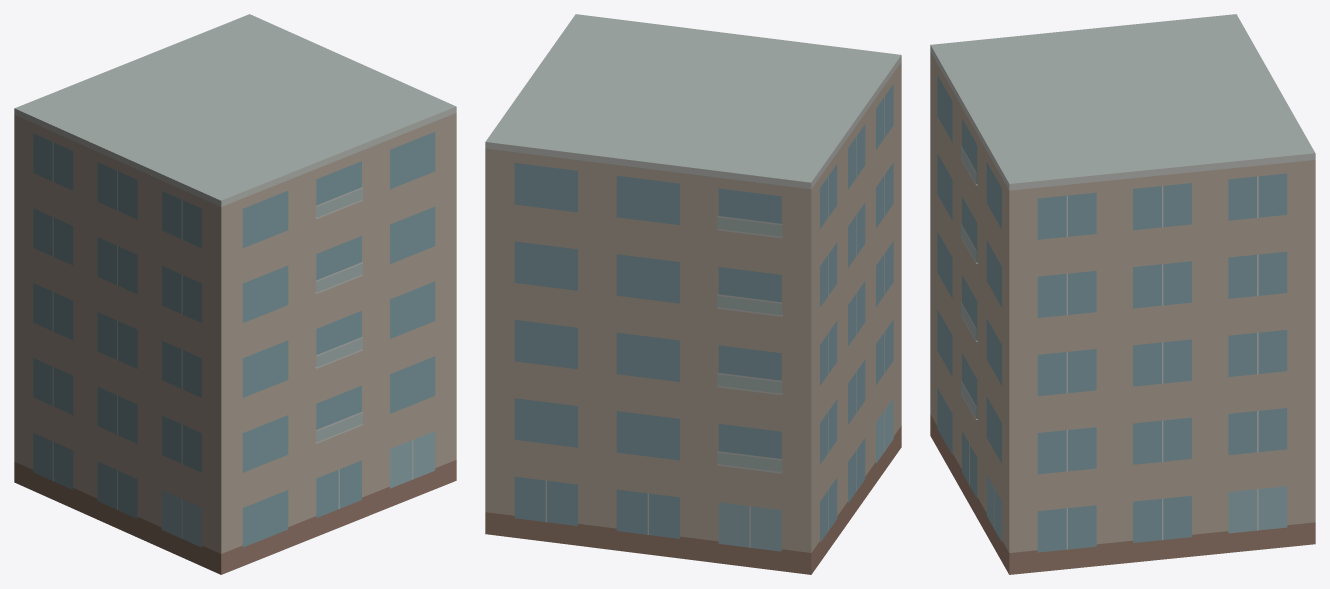
Rendered from survey-upis-32715184.glb.
3 renders of one model, left to right at view 1: azimuth 30°, elevation 25°; view 2: azimuth 150°, elevation 25°; view 3: azimuth 270°, elevation 25°, orthographic. The views are drawn at different scales.
Visible parts, largest first — view 1: survey-upis-32715184.tmp; view 2: survey-upis-32715184.tmp; view 3: survey-upis-32715184.tmp.
Boxes of the visible parts, bbox=[...] form: survey-upis-32715184.tmp: bbox=[14, 14, 456, 574]; survey-upis-32715184.tmp: bbox=[485, 14, 901, 574]; survey-upis-32715184.tmp: bbox=[930, 14, 1315, 574].
Size of the model in its own units: 13.53 by 14.5 by 12.96.
